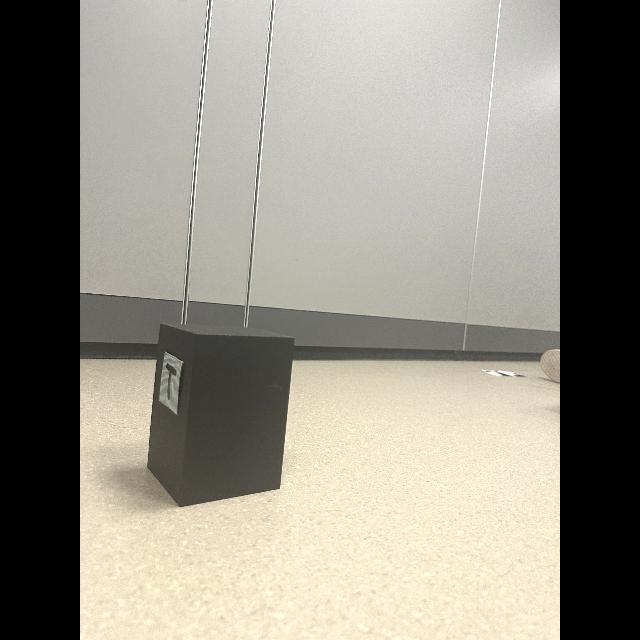T: (166, 363, 177, 399)
